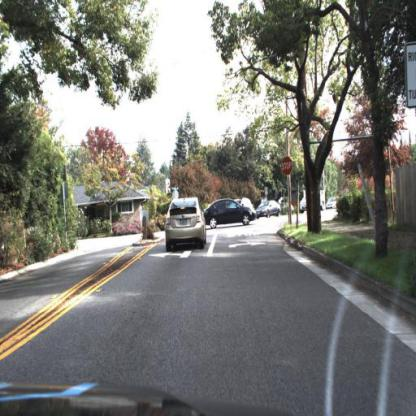car: (164, 197, 208, 250), (200, 199, 262, 226), (257, 201, 282, 219)
